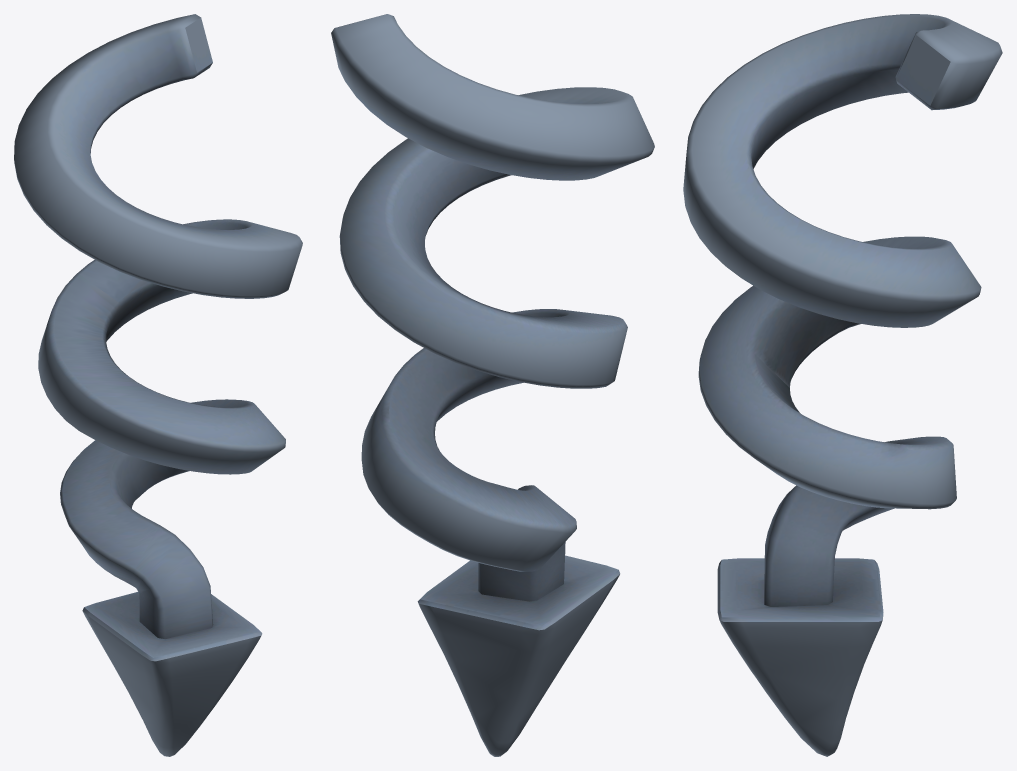
Rendered from TwistForce.DAE.
3 renders of one model, left to right at view 1: azimuth 30°, elevation 25°; view 2: azimuth 150°, elevation 25°; view 3: azimuth 270°, elevation 25°, orthographic. The views are drawn at different scales.
Parts seen in each view (by area): view 1: objTwist; view 2: objTwist; view 3: objTwist.
Boxes of the visible parts, bbox=[...] form: objTwist: bbox=[14, 14, 302, 756]; objTwist: bbox=[331, 14, 654, 756]; objTwist: bbox=[683, 14, 1002, 756].
Bounding box in the file's own units: 35.94 × 36.29 × 94.54.
Materials: 1 (1 with a texture image).
